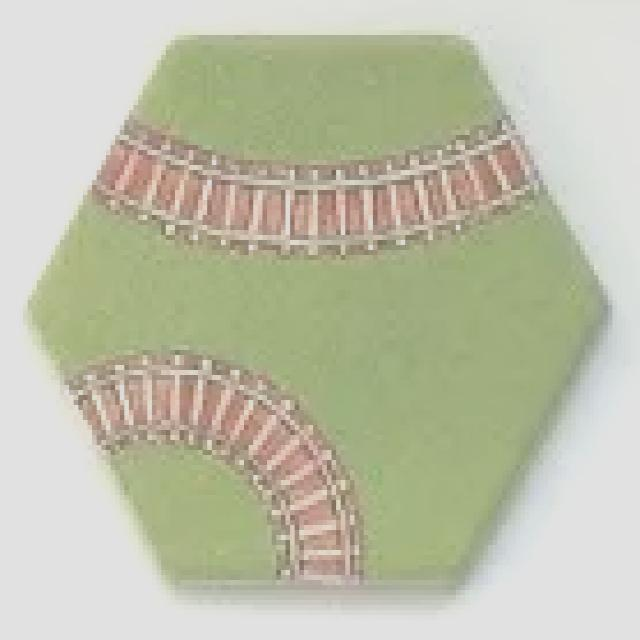5_0: (24, 29, 614, 598)
